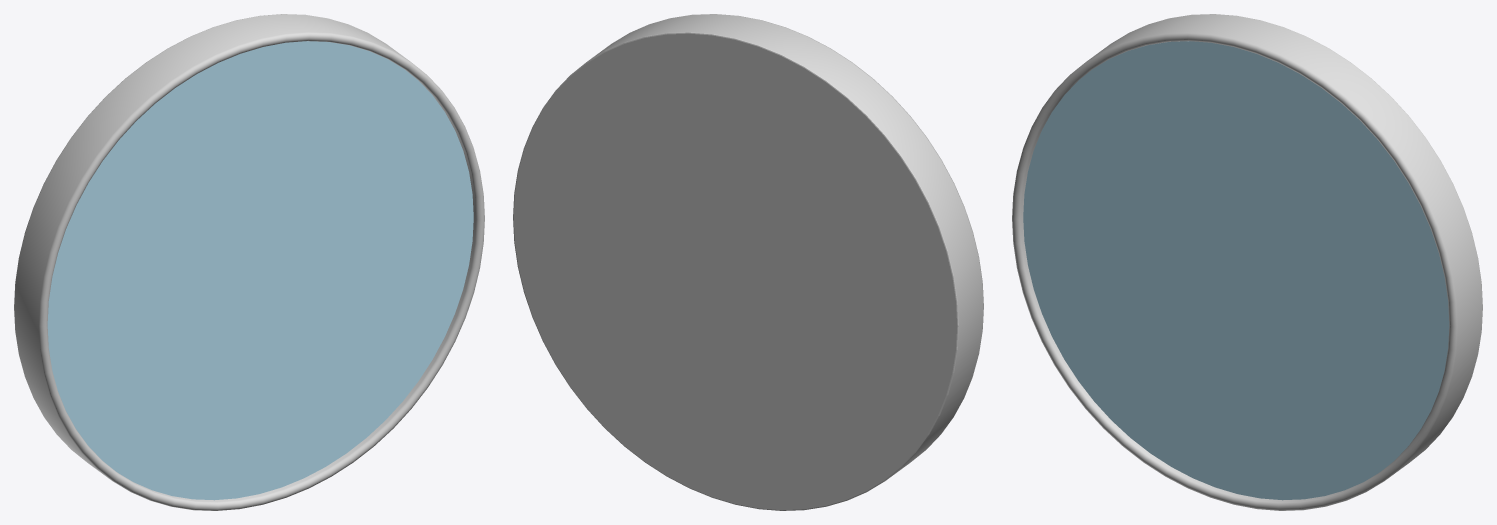
Rendered from wallclock.fbx.
The picture shows the model from 3 angles, left to right: view 1: azimuth 30°, elevation 25°; view 2: azimuth 150°, elevation 25°; view 3: azimuth 330°, elevation 25°; orthographic projection.
Visible parts, largest first — view 1: FrontGlass, Body; view 2: Body; view 3: FrontGlass, Body.
Part boxes in pixels (x1,y1,x2,y2): FrontGlass: (47, 41, 473, 500); Body: (14, 14, 484, 510); Body: (513, 14, 983, 510); FrontGlass: (1023, 41, 1449, 500); Body: (1012, 14, 1482, 510).
Size of the model in its own units: 38.98 by 38.98 by 4.12.
